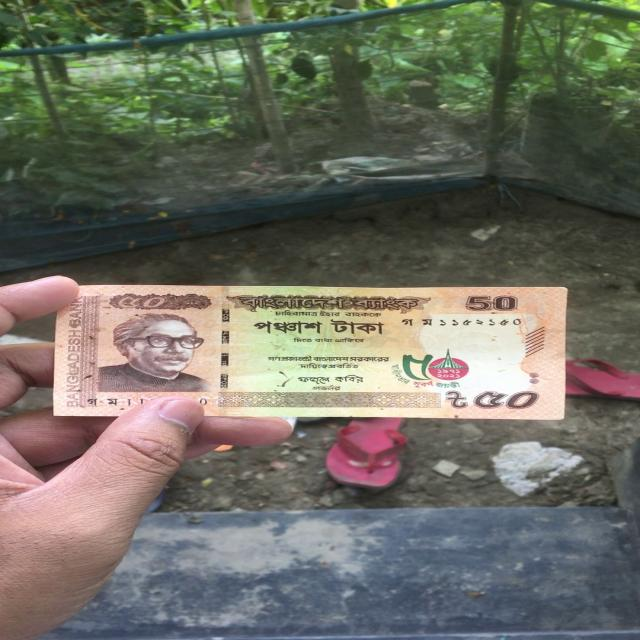Taka: (68, 283, 573, 412)
